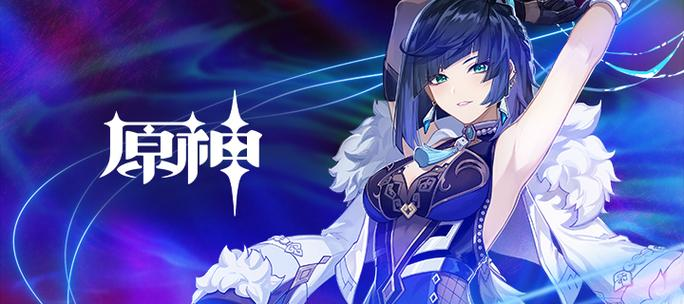夜兰: (350, 1, 631, 304)
